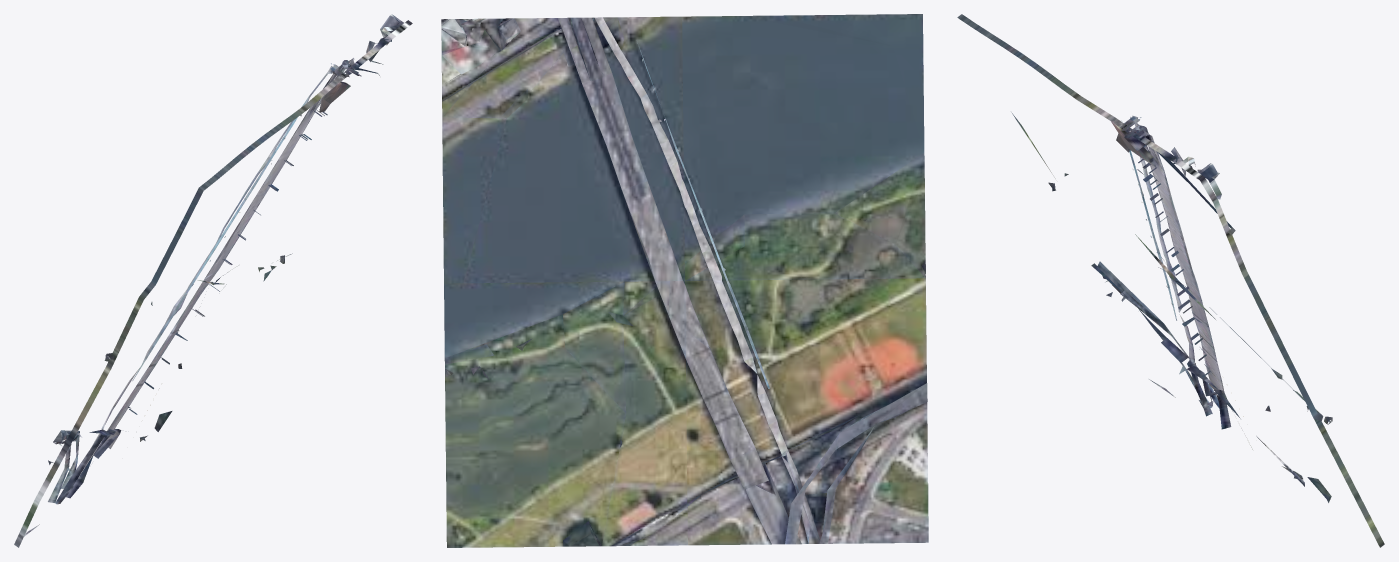
3 views of the same model, side by side, from view 1: azimuth 30°, elevation 25°; view 2: azimuth 150°, elevation 25°; view 3: azimuth 270°, elevation 25° (orthographic). The views are drawn at different scales.
Size of the model in its own units: 611 by 564 by 517.
Materials: 1 (1 with a texture image).
